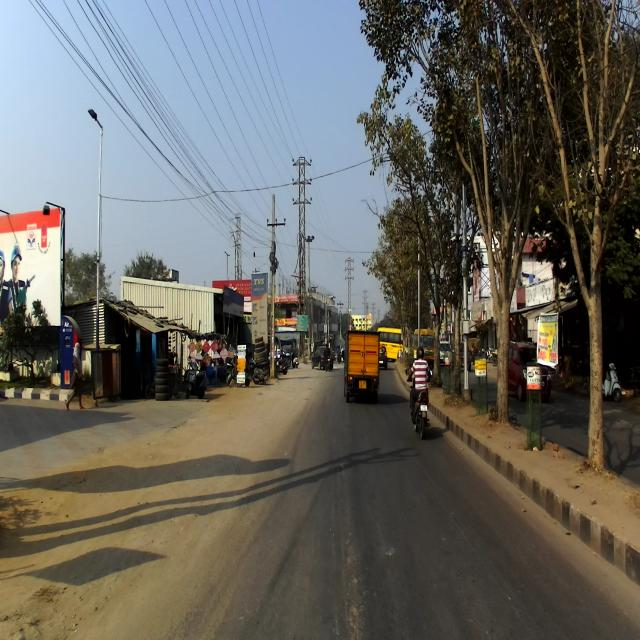truck ahead at: (343, 329, 383, 403)
